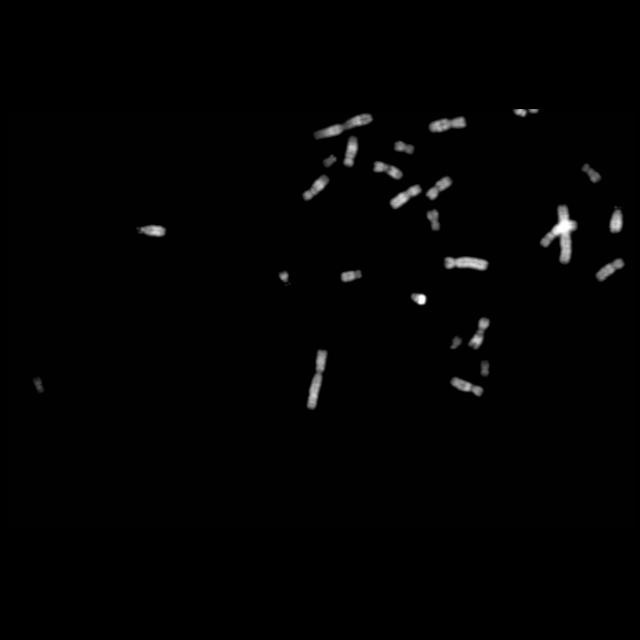chromosome: (314, 112, 374, 140), (306, 348, 326, 409), (540, 220, 576, 246), (557, 204, 571, 264), (390, 185, 420, 209), (426, 173, 452, 200), (428, 116, 466, 134), (303, 174, 329, 200), (596, 258, 624, 282), (451, 376, 483, 396), (444, 257, 488, 271), (469, 318, 488, 350), (373, 161, 402, 179), (608, 206, 624, 234), (343, 137, 357, 167), (580, 164, 600, 182), (137, 226, 166, 236), (396, 140, 414, 156), (341, 268, 361, 282), (427, 210, 439, 230), (412, 292, 426, 306), (322, 154, 336, 168), (480, 360, 490, 378), (450, 334, 460, 350), (278, 271, 288, 283)
